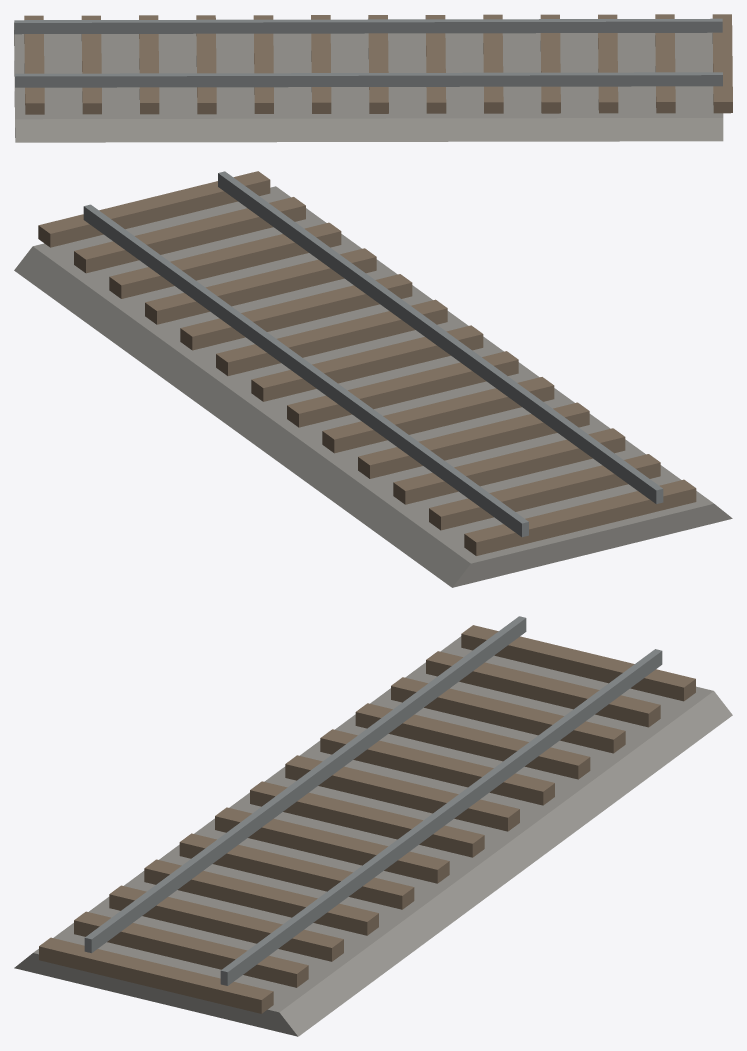
Rendered from rail_01218.glb.
3 views of the same model, one above another, from view 1: azimuth 30°, elevation 25°; view 2: azimuth 150°, elevation 25°; view 3: azimuth 270°, elevation 25° (orthographic). The views are drawn at different scales.
Parts seen in each view (by area): view 1: Ballast, Rails, Sleepers; view 2: Sleepers, Ballast, Rails; view 3: Sleepers, Ballast, Rails.
Boxes of the visible parts, x1,y1,x2,y2 form: Ballast: (14, 22, 723, 142); Rails: (14, 18, 722, 87); Sleepers: (24, 14, 732, 114); Sleepers: (38, 171, 696, 555); Ballast: (14, 186, 732, 587); Rails: (83, 171, 663, 537); Sleepers: (39, 625, 695, 1013); Ballast: (14, 636, 732, 1036); Rails: (84, 616, 662, 985).
Size of the model in its own units: 8.46 by 0.48 by 6.59.
